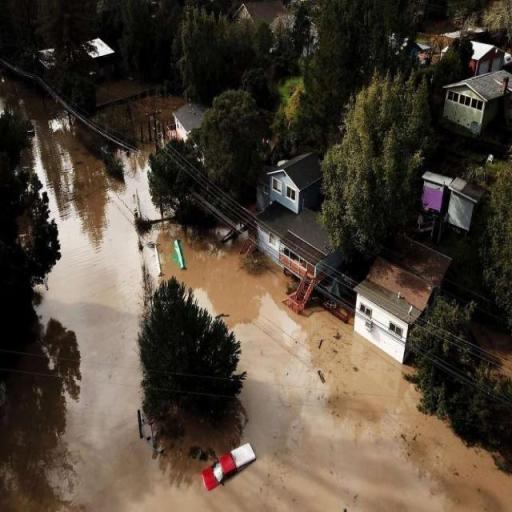flood: (0, 81, 512, 512)
house: (355, 255, 417, 367), (444, 66, 510, 138), (270, 152, 324, 216), (168, 98, 210, 151), (468, 38, 502, 76)
